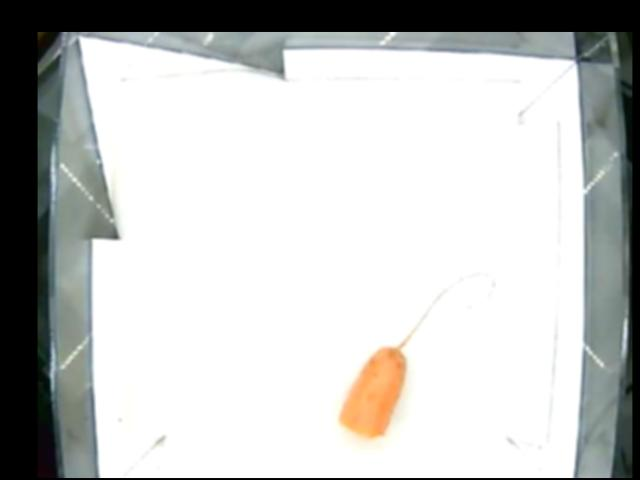Carrot: (340, 348, 404, 432)
